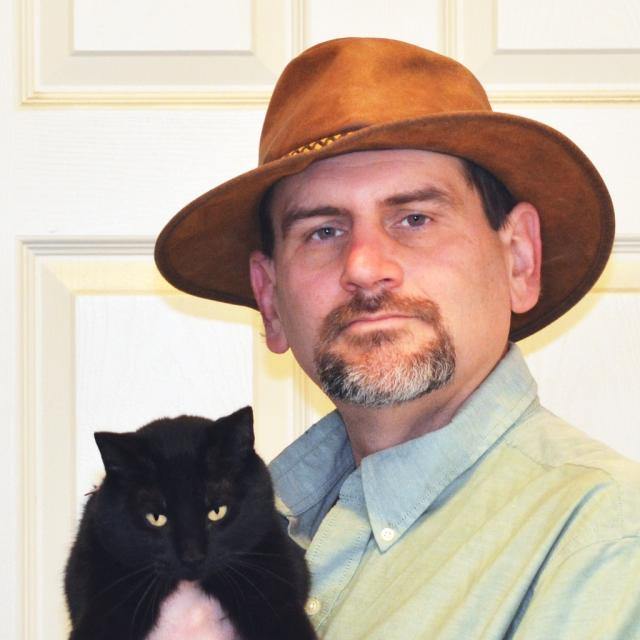Cat: (63, 404, 319, 639)
